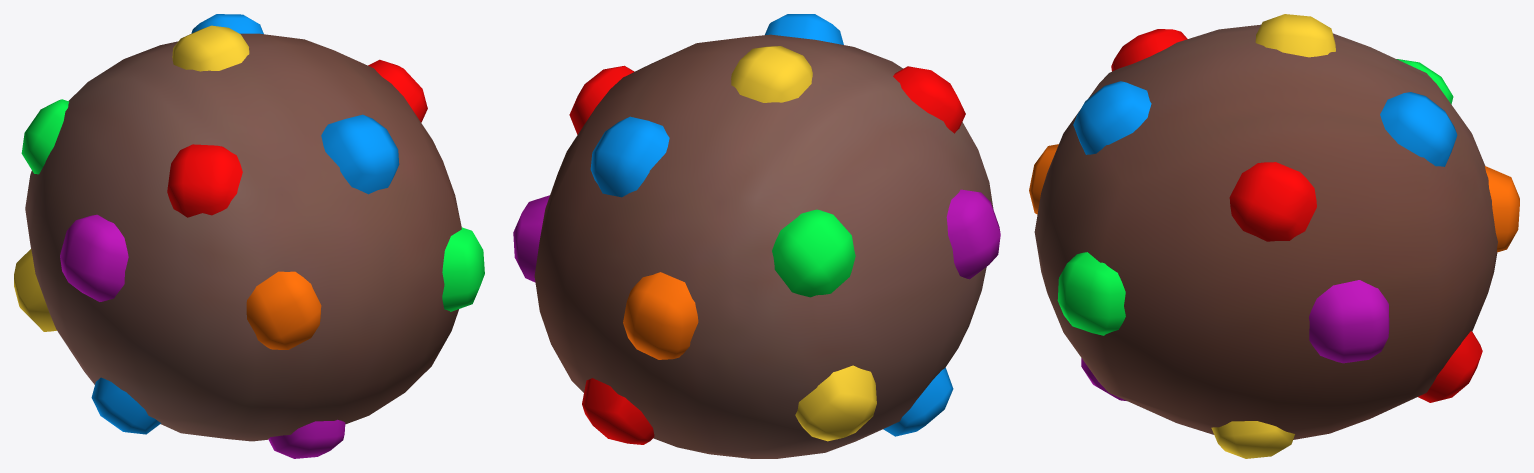
Rendered from Ball_chocolate.fbx.
3 renders of one model, left to right at view 1: azimuth 30°, elevation 25°; view 2: azimuth 150°, elevation 25°; view 3: azimuth 270°, elevation 25°, orthographic. The views are drawn at different scales.
Visible parts, largest first — view 1: Ball_chocolate; view 2: Ball_chocolate; view 3: Ball_chocolate.
Boxes of the visible parts, left/top/right/bottom form: Ball_chocolate: left=14, top=14, right=484, bottom=458; Ball_chocolate: left=513, top=14, right=1000, bottom=458; Ball_chocolate: left=1029, top=14, right=1519, bottom=458.
Size of the model in its own units: 10 by 9.33 by 10.56.
